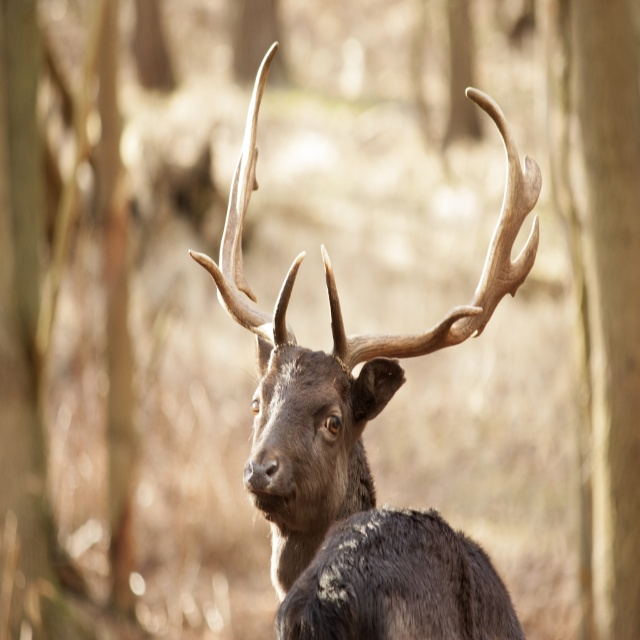Deer: (187, 37, 542, 639)
